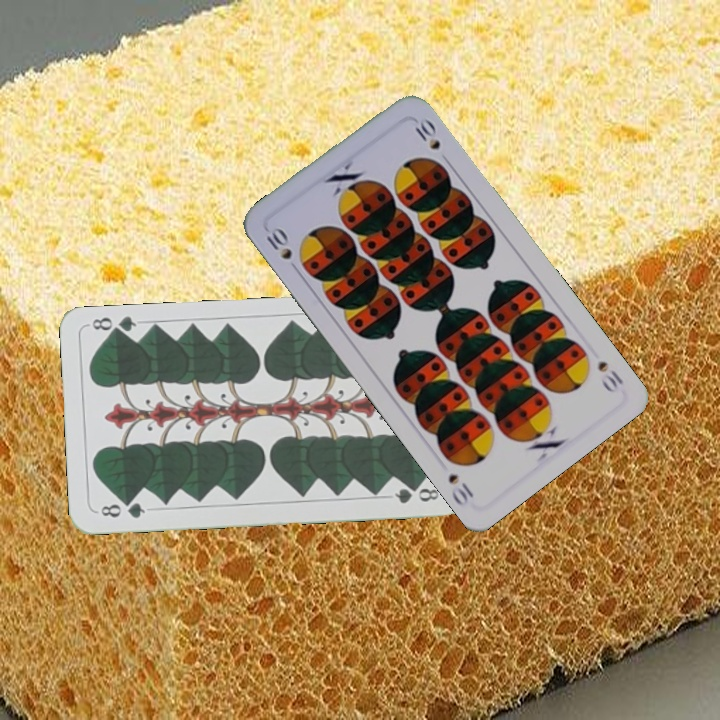G8: (93, 497, 147, 521)
S10: (260, 222, 295, 263), (593, 356, 626, 396)
